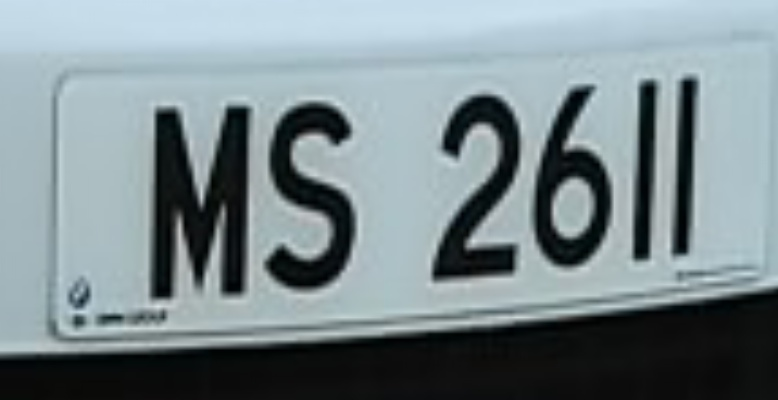1: (613, 69, 672, 273), (659, 60, 711, 273)
2: (419, 78, 534, 297)
6: (522, 78, 624, 284)
M: (136, 85, 270, 325)
S: (260, 89, 380, 314)
